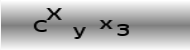3: (116, 23, 129, 36)
C: (33, 19, 47, 33)
X: (45, 7, 63, 21)
x: (98, 19, 114, 29)
y: (72, 25, 87, 40)
